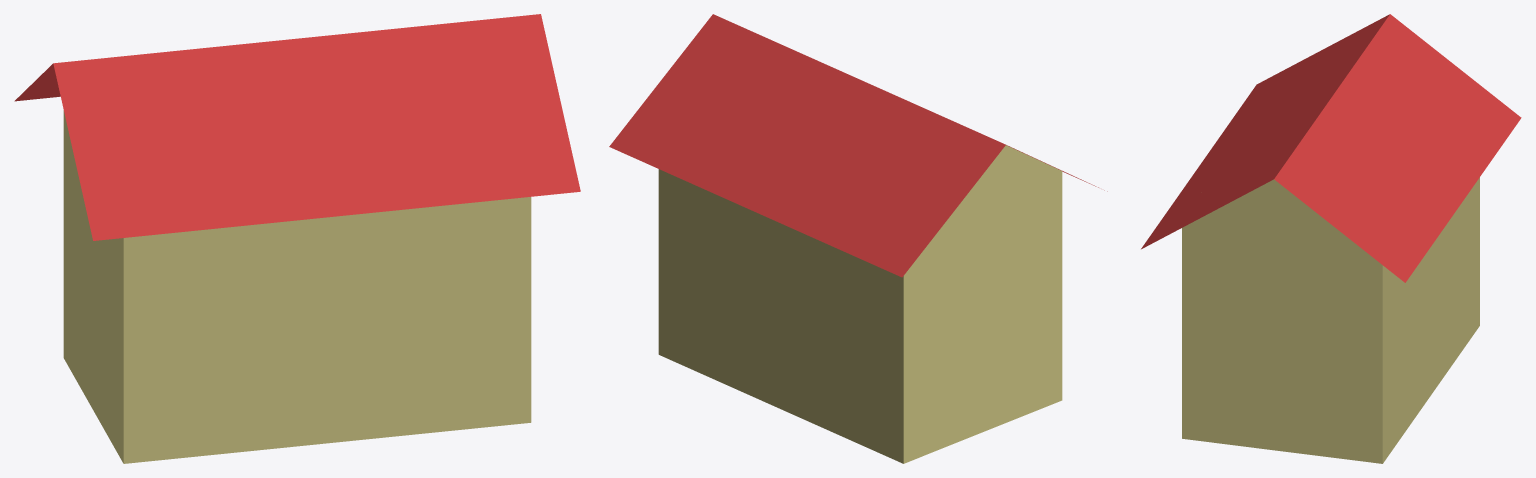
The picture shows the model from 3 angles, left to right: view 1: azimuth 30°, elevation 25°; view 2: azimuth 150°, elevation 25°; view 3: azimuth 270°, elevation 25°; orthographic projection. The views are drawn at different scales.
Size of the model in its own units: 21.03 by 17.06 by 14.11.
